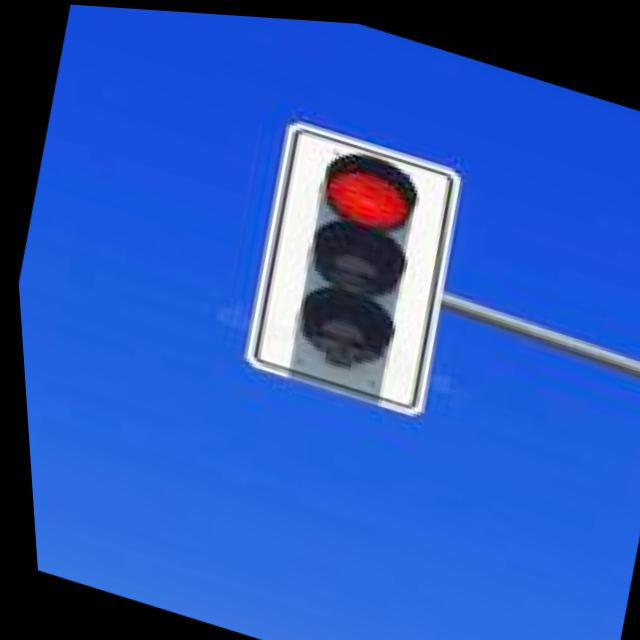red_light: (264, 109, 482, 259)
